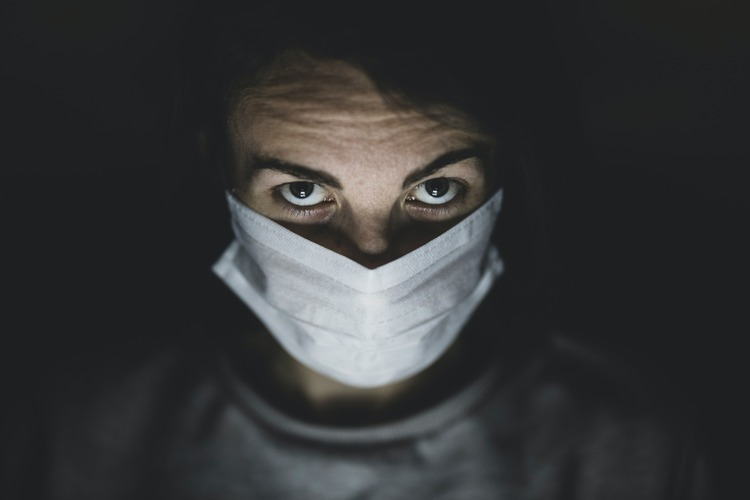with_mask: (223, 90, 495, 362)
